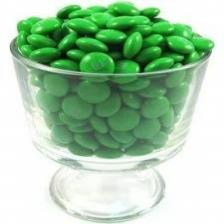green: (174, 64, 183, 68)
